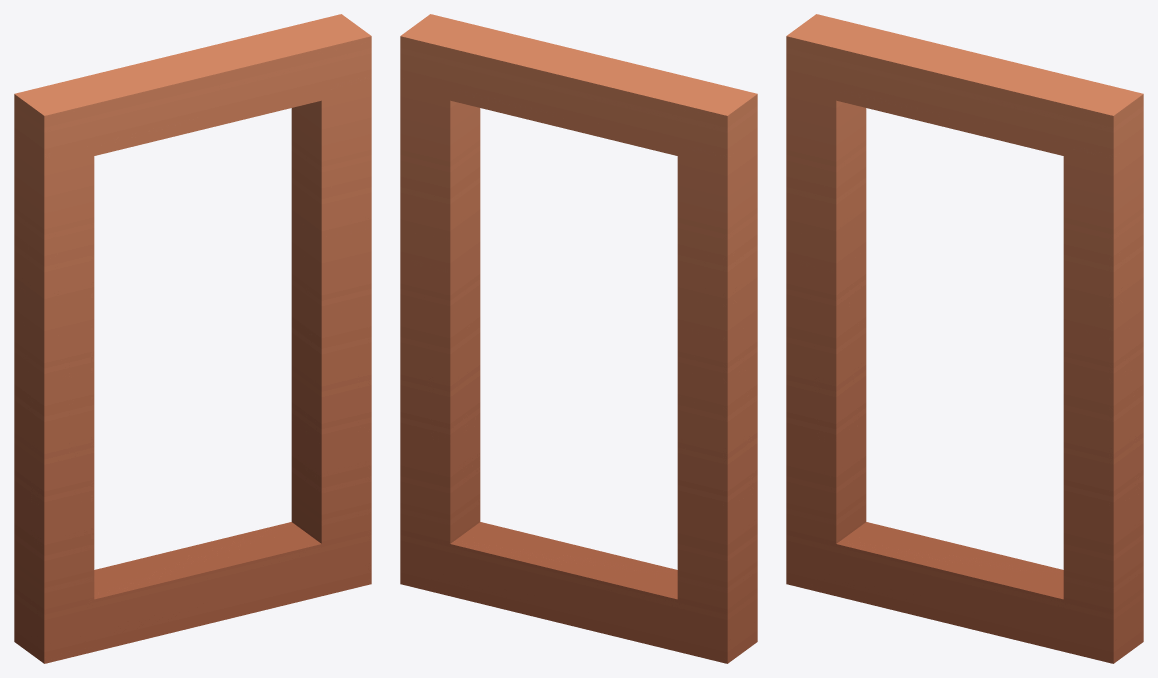
Rendered from window_brown_tall.glb.
3 renders of one model, left to right at view 1: azimuth 30°, elevation 25°; view 2: azimuth 150°, elevation 25°; view 3: azimuth 330°, elevation 25°, orthographic.
Parts seen in each view (by area): view 1: window-brown-tall; view 2: window-brown-tall; view 3: window-brown-tall.
Part boxes in pixels (x1=…): window-brown-tall: x1=14, y1=14, x2=371, y2=663; window-brown-tall: x1=400, y1=14, x2=757, y2=663; window-brown-tall: x1=786, y1=14, x2=1143, y2=663.
Size of the model in its own units: 0.3125 by 0.5 by 0.05.
Materials: 1 (1 with a texture image).
